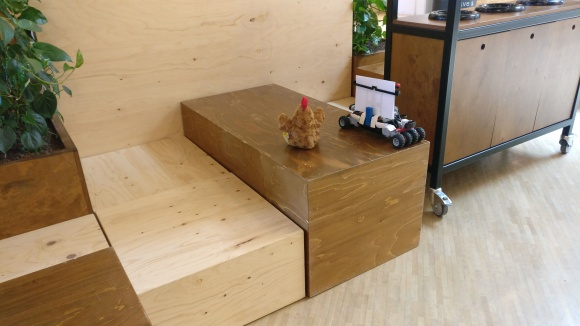car: (339, 74, 426, 152)
chicken: (276, 96, 326, 151)
